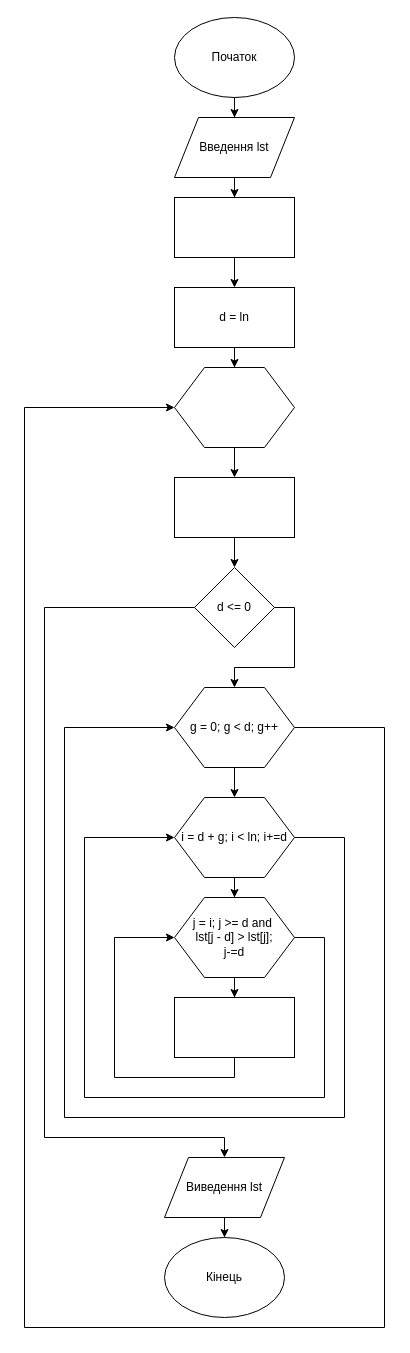
Image size: 410x1353. Some labels were removed from this diagram. The centre of each missing label's shape, as x and y in pixels:
"d = d / 2" belongs at point 234,507.
"ln = len(lst)" belongs at point 234,227.
"swap(lst[j - d], lst[j])" belongs at point 234,1027.
"True" belongs at point 234,407.
